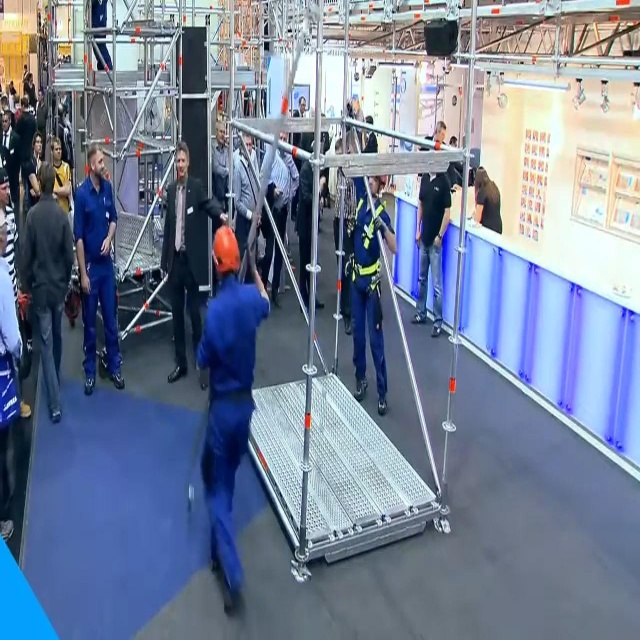Arnes_seguridad: (345, 187, 392, 307)
